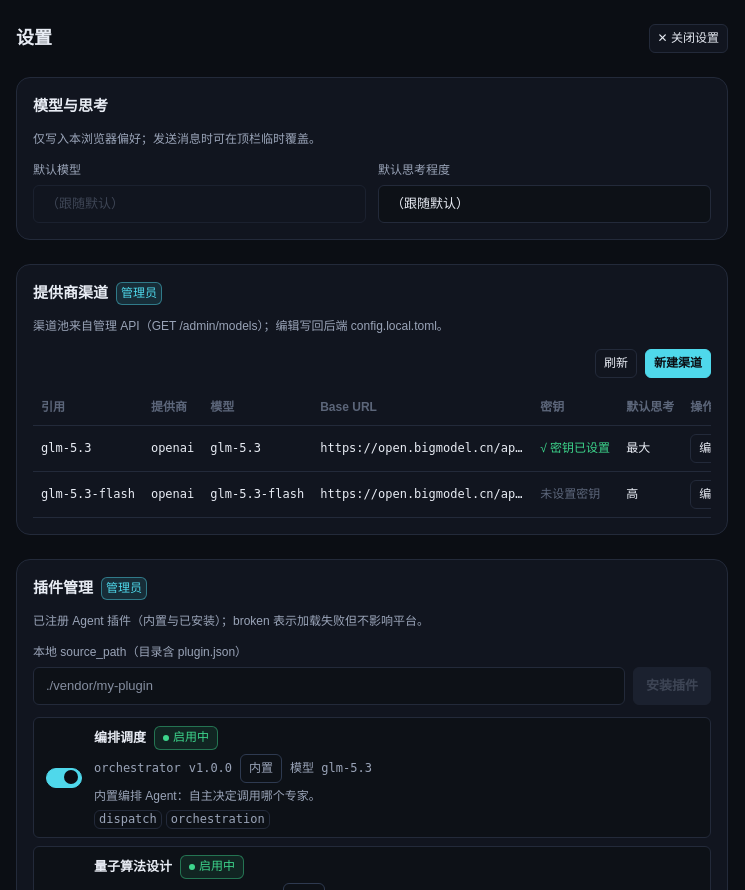
SettingsPage 四分区 › 插件：安装（source_path）成功入列；空路径不触发
This screenshot has width=745, height=890.
Expected: the button with test id "plugin-install-btn" is disabled, left=633, top=667, right=711, bottom=706
Type "./vendor/ftqe-analyzer" into the field with test id "plugin-source-path" at x=329, y=686, box left=33, top=667, right=625, bottom=706
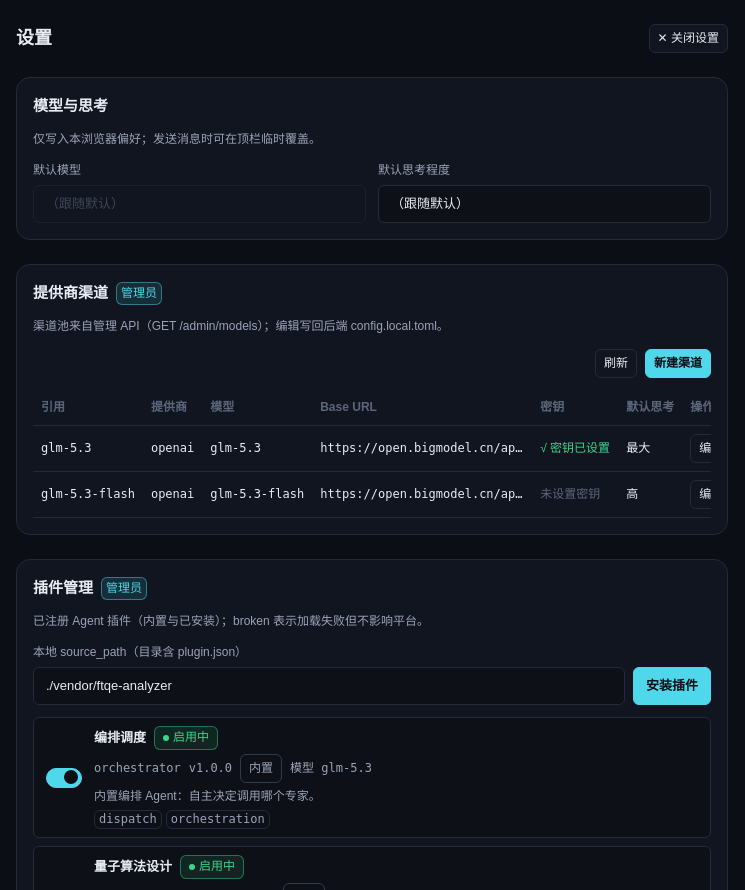
Now the button with test id "plugin-install-btn" is enabled
Click the button with test id "plugin-install-btn" at x=672, y=686, box left=633, top=667, right=711, bottom=706
(page scrolled)
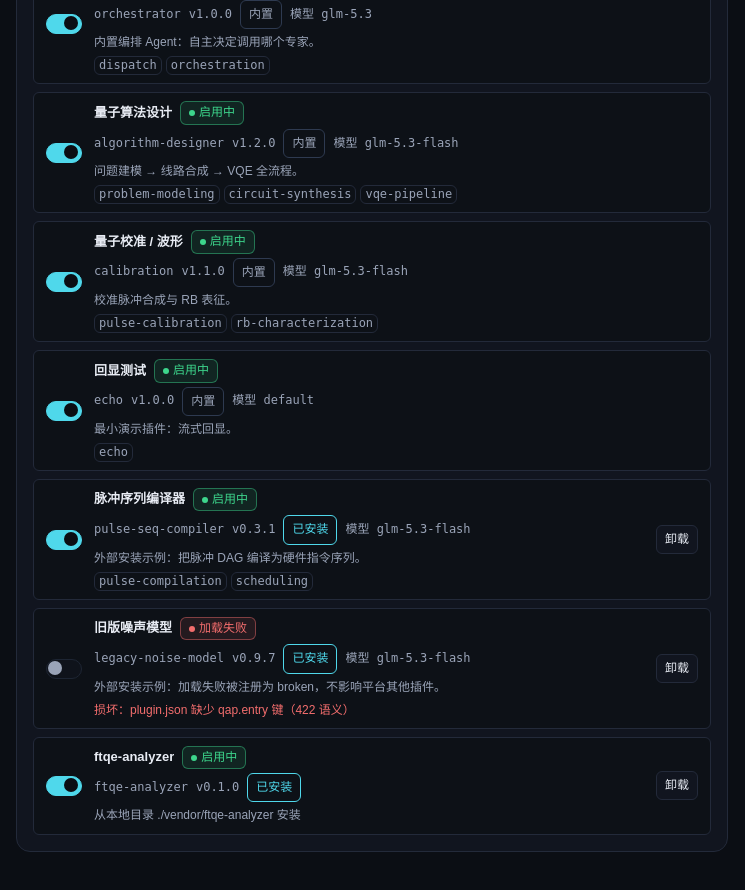
Now the list item with test id "plugin-item-ftqe-analyzer" is shown, box left=33, top=737, right=711, bottom=835
